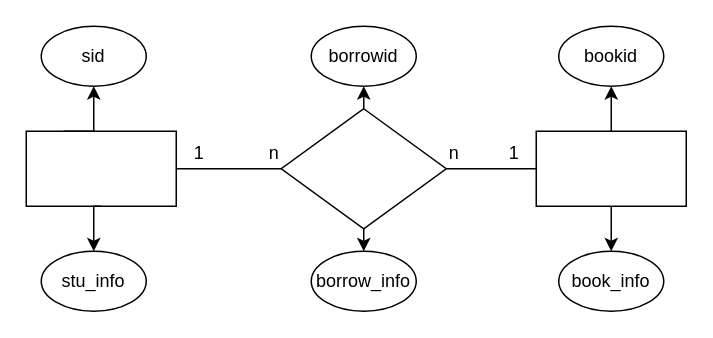
Some shapes in this 713 by 338 pixel diagram are drawn without their labels. Here are the shapes that lost their labels. From the top down, the centre of each, then its label:
(100,168): 学生信息
(363,168): 借阅信息
(610,168): 书籍信息
